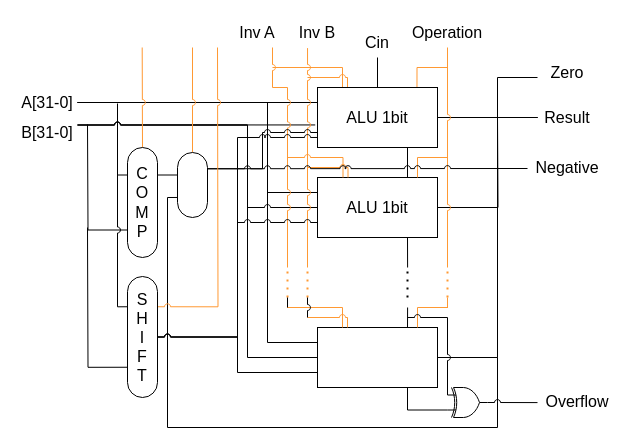
Some shapes in this 626 by 446 pixel diagram are drawn without their labels. The centre of each missing label's shape, as x and y in pixels:
"ALU 1bit (MSB)" goes at point (377, 357).
"M U X" goes at point (192, 185).
